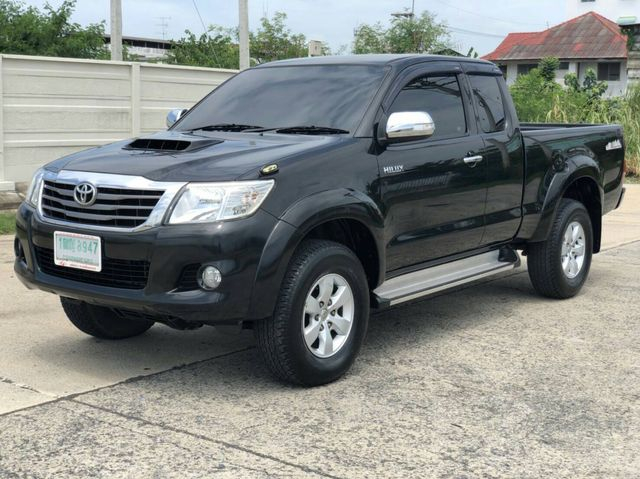pickup: (11, 48, 630, 389)
